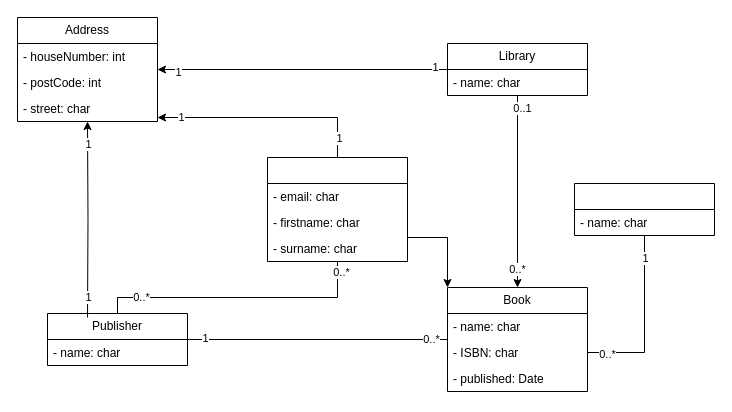
The diagram is 732 pixels wide and 412 high, and some of its shapes have lost their labels. Each missing label, with the box of its shape:
Author: (266, 156, 408, 262)
Genre: (574, 182, 714, 236)
